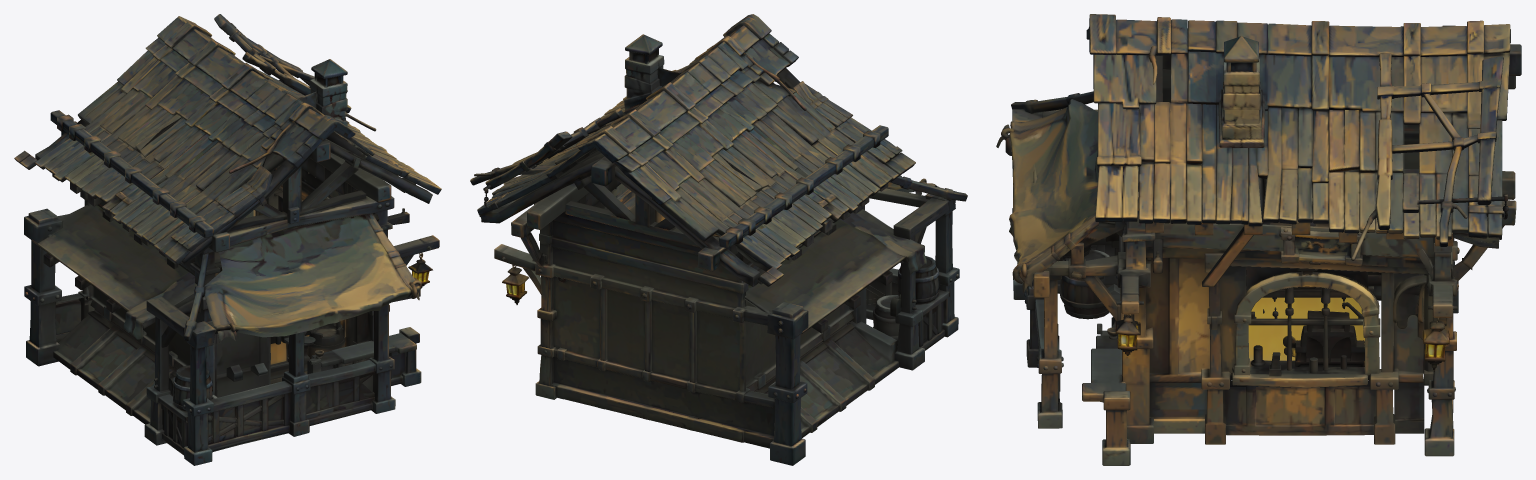
File: tripo_convert_2bc936f0-7ae2-421e-a447-d63e37299bbb.fbx
3 views of the same model, side by side, from view 1: azimuth 30°, elevation 25°; view 2: azimuth 150°, elevation 25°; view 3: azimuth 270°, elevation 25° (orthographic). The views are drawn at different scales.
Parts seen in each view (by area): view 1: tripo_node_2bc936f0; view 2: tripo_node_2bc936f0; view 3: tripo_node_2bc936f0.
Part boxes in pixels (x1,y1,x2,y2): tripo_node_2bc936f0: (14,14,441,465); tripo_node_2bc936f0: (470,14,967,465); tripo_node_2bc936f0: (996,14,1521,465).
Size of the model in its own units: 0.9731 by 0.8628 by 0.9995.
1 material, 1 textured.
